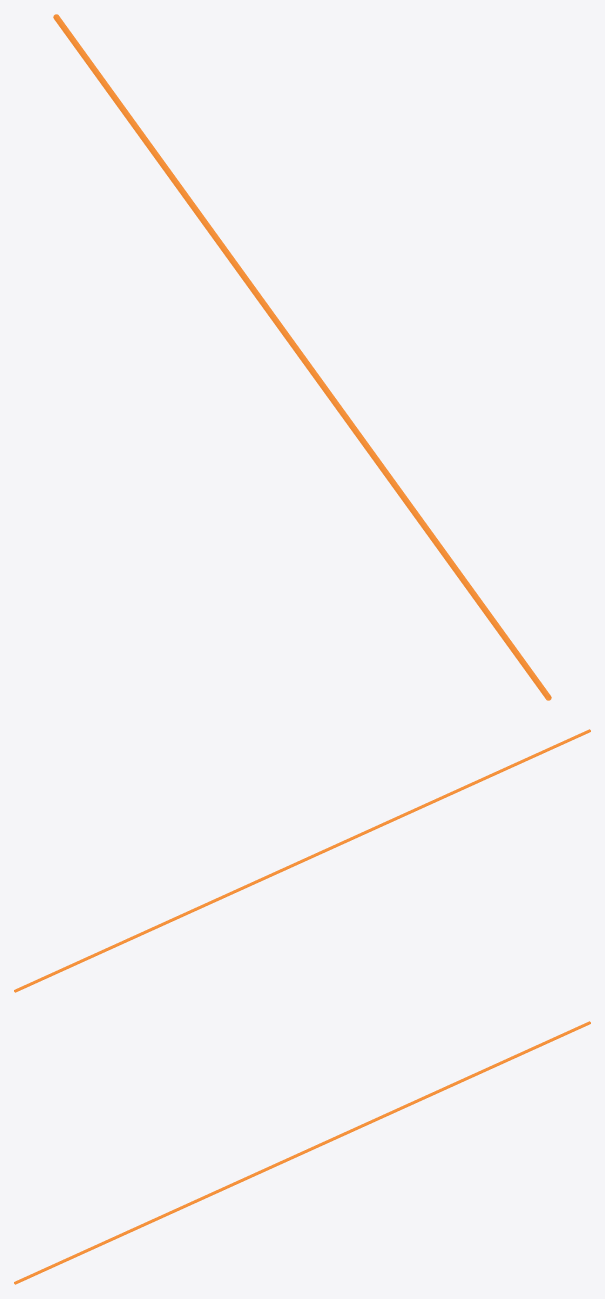
3 renders of one model, top to bottom at view 1: azimuth 30°, elevation 25°; view 2: azimuth 150°, elevation 25°; view 3: azimuth 330°, elevation 25°, orthographic. The views are drawn at different scales.
Parts seen in each view (by area): view 1: BezierCurve.007; view 2: BezierCurve.007; view 3: BezierCurve.007.
Boxes of the visible parts, x1=… form: BezierCurve.007: x1=53, y1=14, x2=551, y2=700; BezierCurve.007: x1=14, y1=729, x2=590, y2=992; BezierCurve.007: x1=14, y1=1021, x2=590, y2=1284.
Bounding box in the file's own units: 6.38 × 0.1 × 27.22.
